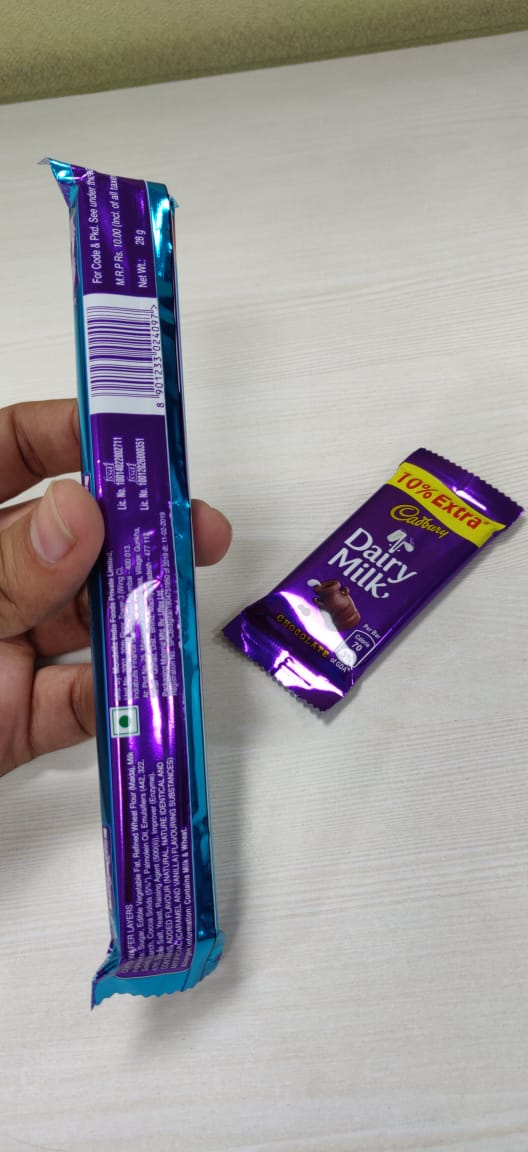dairy milk: (220, 428, 528, 753)
perk: (17, 132, 234, 1048)
